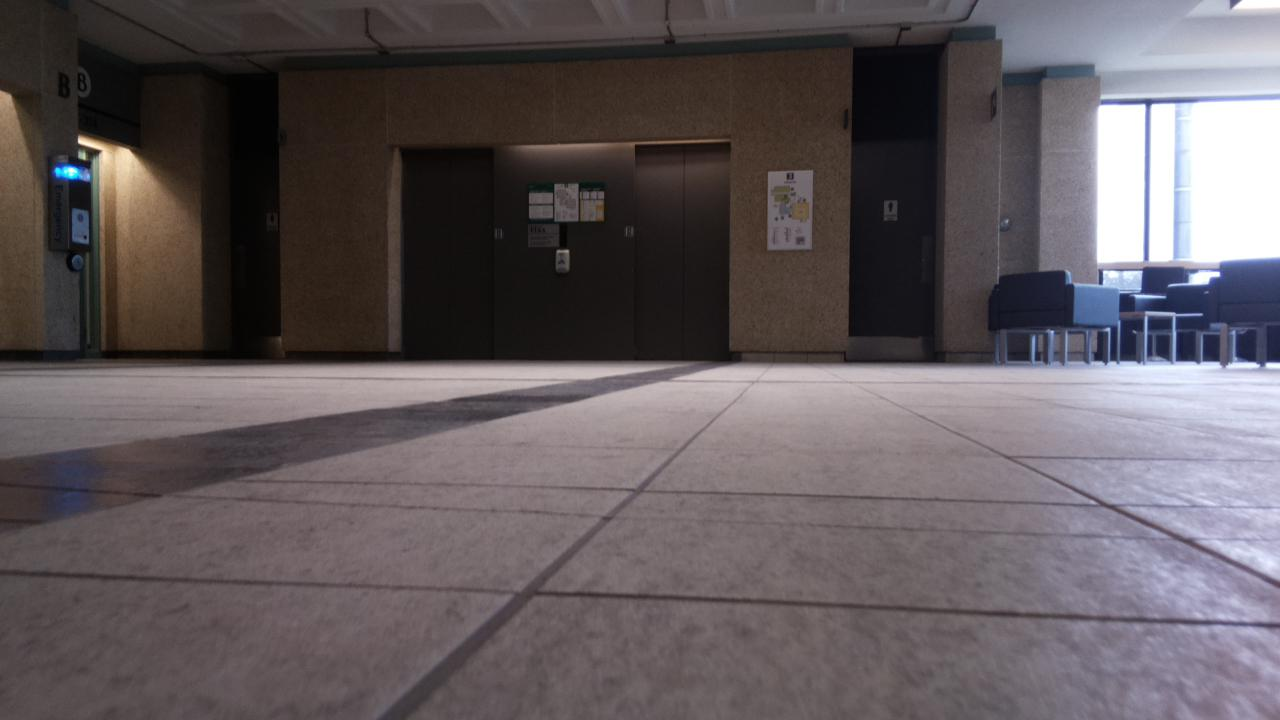door: (633, 142, 730, 362), (401, 148, 495, 360), (848, 140, 936, 362)
sign: (766, 170, 812, 250), (526, 181, 604, 222), (884, 200, 897, 220)
